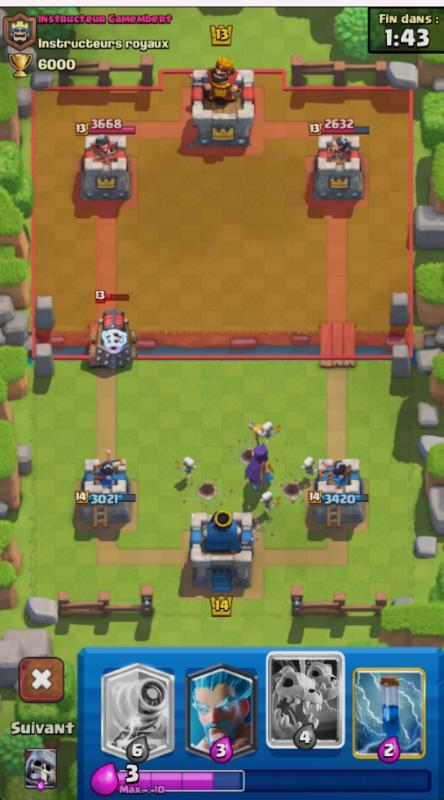enemy_sparky: (82, 301, 140, 372)
player_skeletons: (253, 486, 280, 516), (173, 453, 200, 481), (296, 454, 319, 478)
player_witch: (237, 420, 280, 494)
